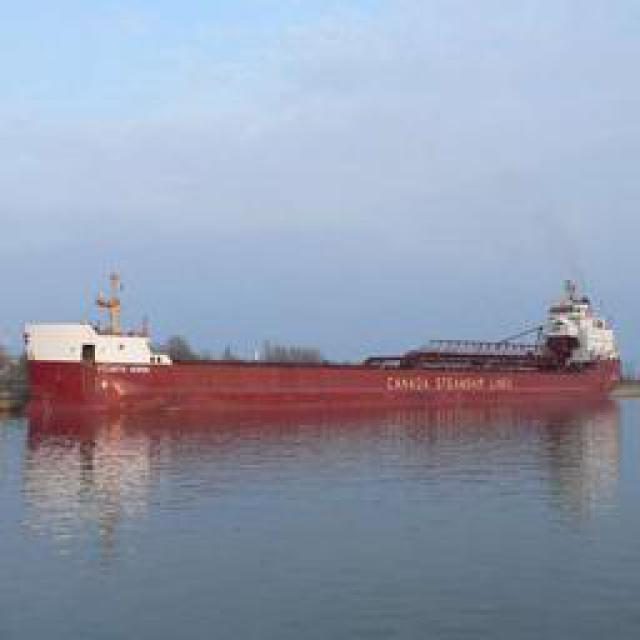Ship: (15, 281, 623, 415)
